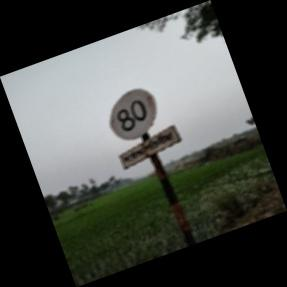Speed-limit: (108, 88, 180, 171)
